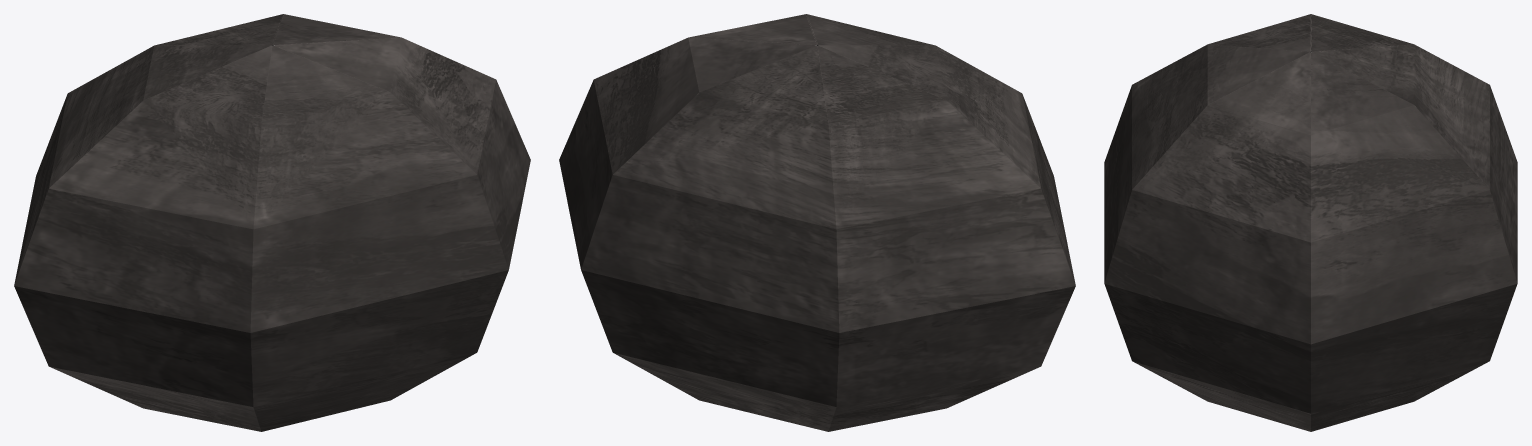
Rendered from Rock 1.dae.
3 views of the same model, side by side, from view 1: azimuth 30°, elevation 25°; view 2: azimuth 150°, elevation 25°; view 3: azimuth 270°, elevation 25° (orthographic). The views are drawn at different scales.
Parts seen in each view (by area): view 1: pSphere1; view 2: pSphere1; view 3: pSphere1.
Boxes of the visible parts, x1,y1,x2,y2 form: pSphere1: [14, 14, 530, 431]; pSphere1: [559, 14, 1075, 431]; pSphere1: [1104, 14, 1517, 431].
Size of the model in its own units: 2 by 1.23 by 1.44.
